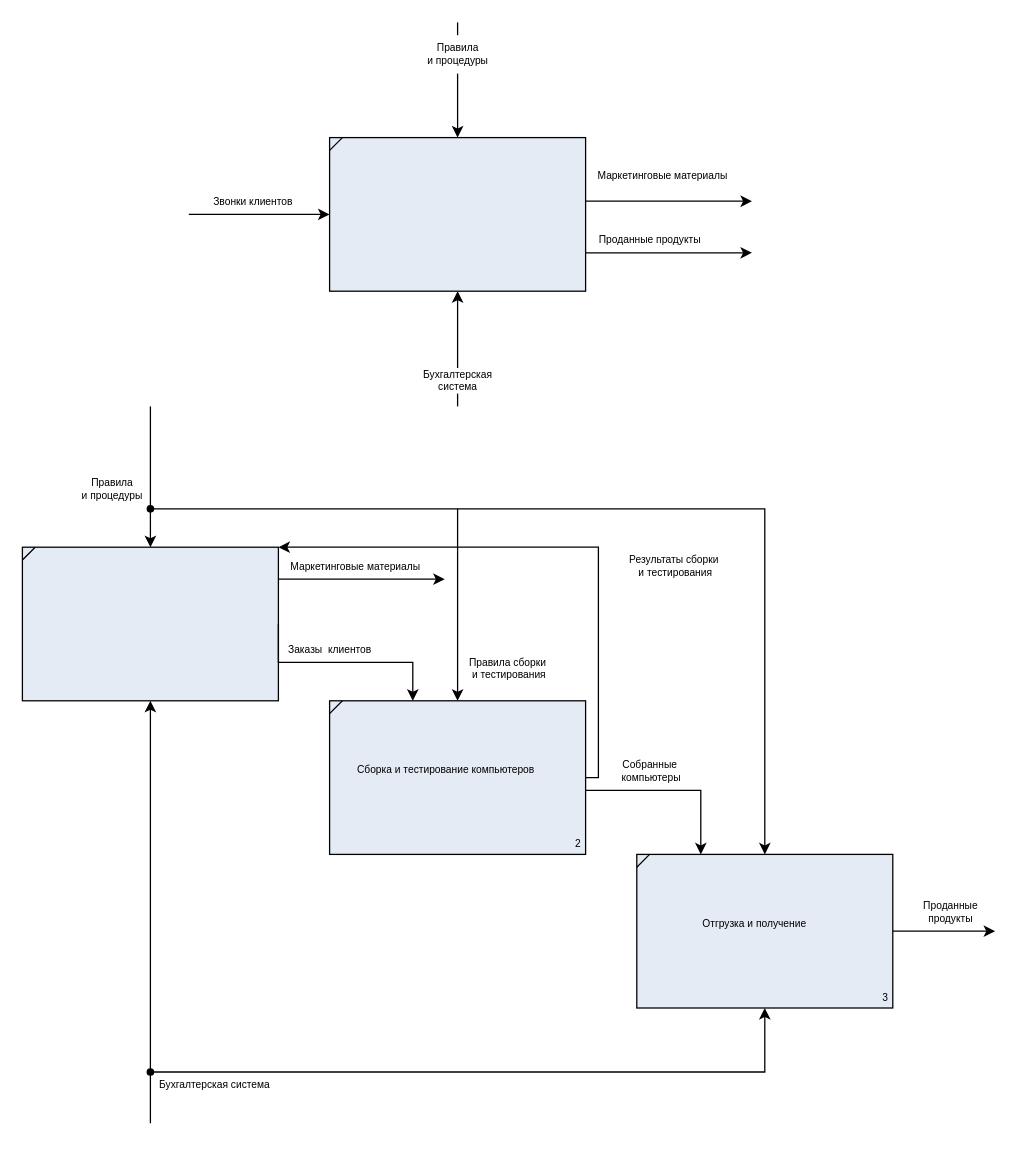
This 1028x1156 diagram has some shape labels left out. Each missing label, with the box of its shape:
Деятельность в области сборки и продажи персональных компьютеров и ноутбуков 0: (328, 136, 586, 291)
Продажи и маркетинг 1: (21, 546, 278, 701)
